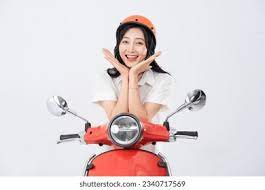helmets: (114, 12, 159, 46)
